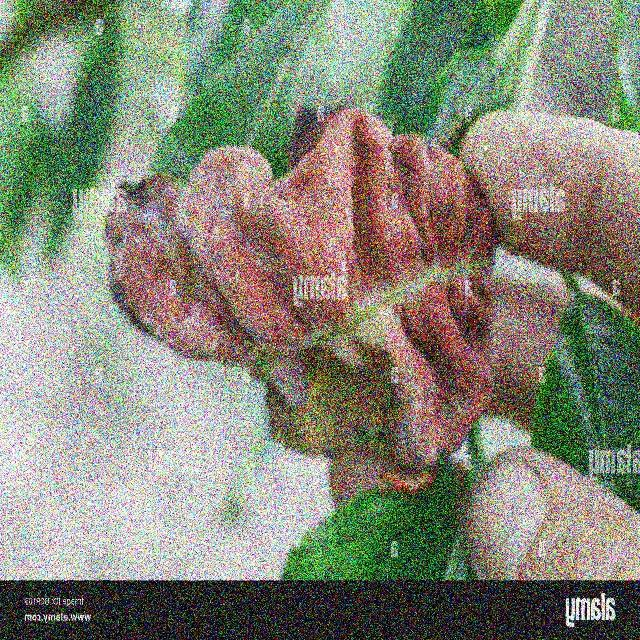leaf_curl: (91, 101, 490, 517)
